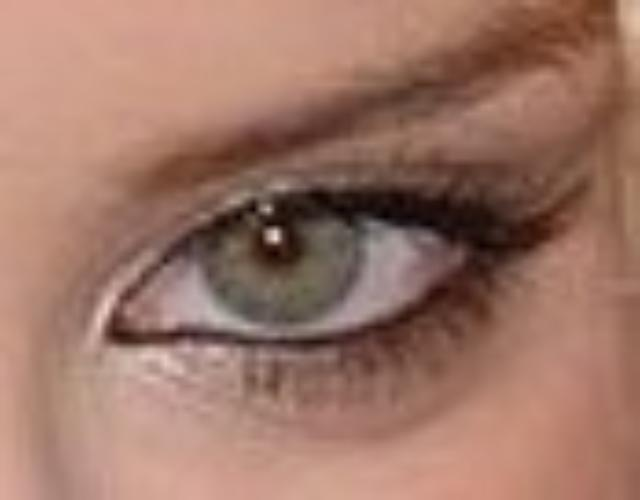eye: (190, 209, 368, 321)
